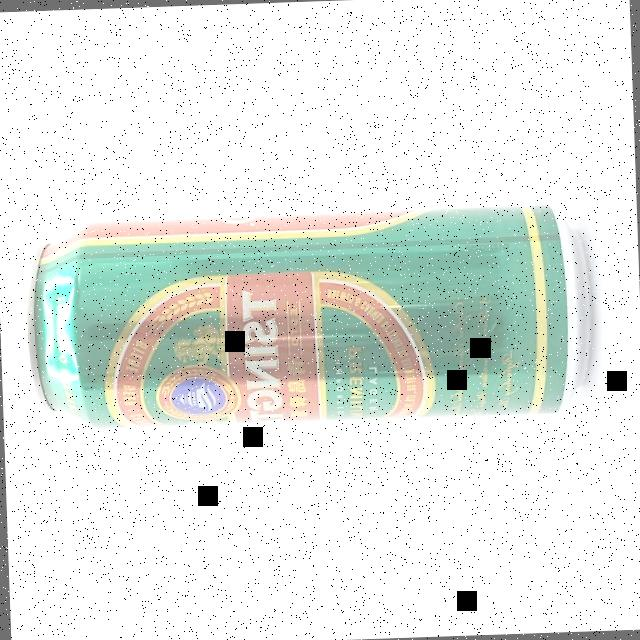can: (22, 202, 594, 431)
